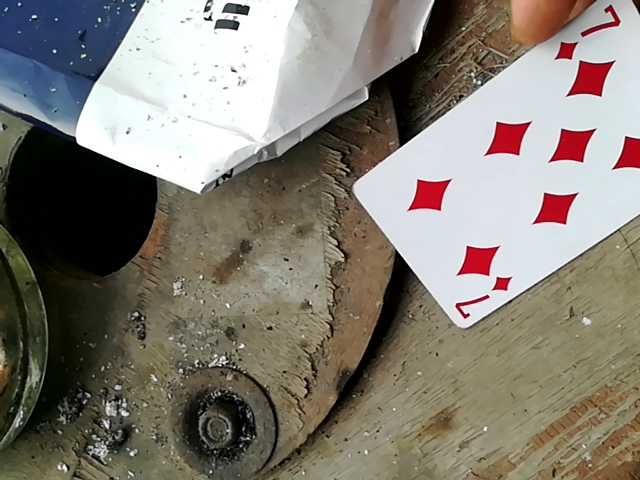fk 7: (348, 2, 640, 333)
